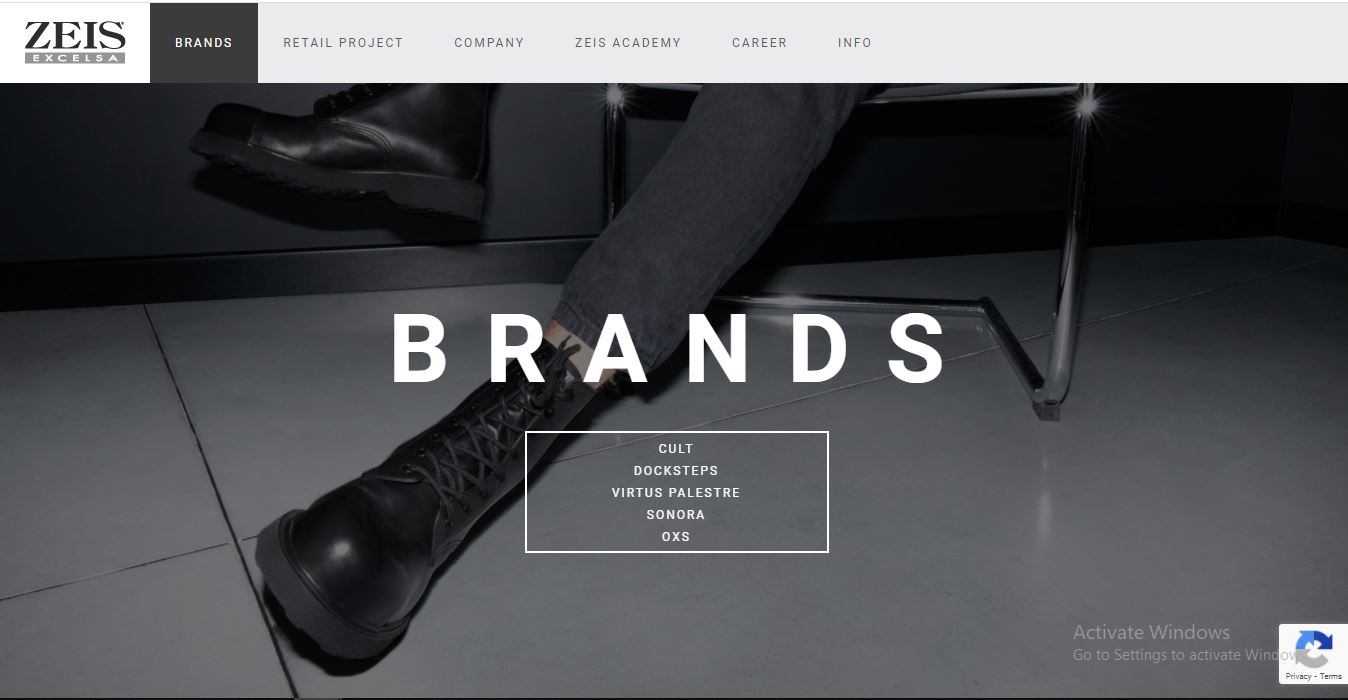Image: (4, 82, 1348, 696), (4, 0, 145, 80)
Menu Bar: (153, 0, 899, 86)
